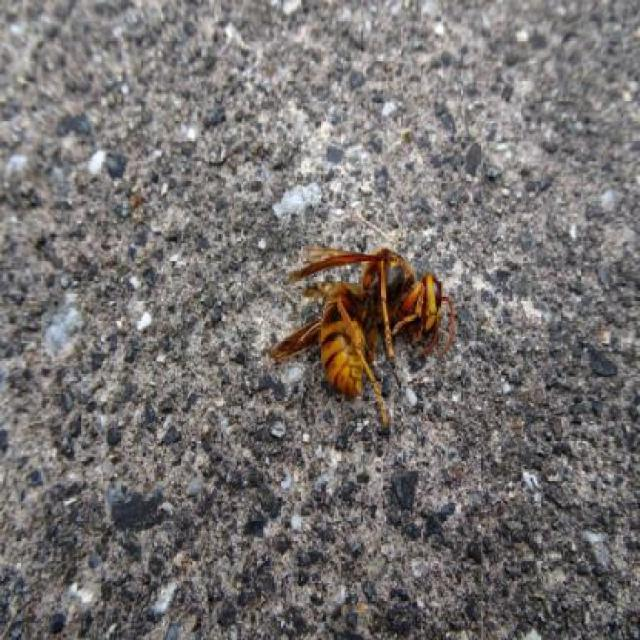Wasp: (262, 216, 462, 431)
